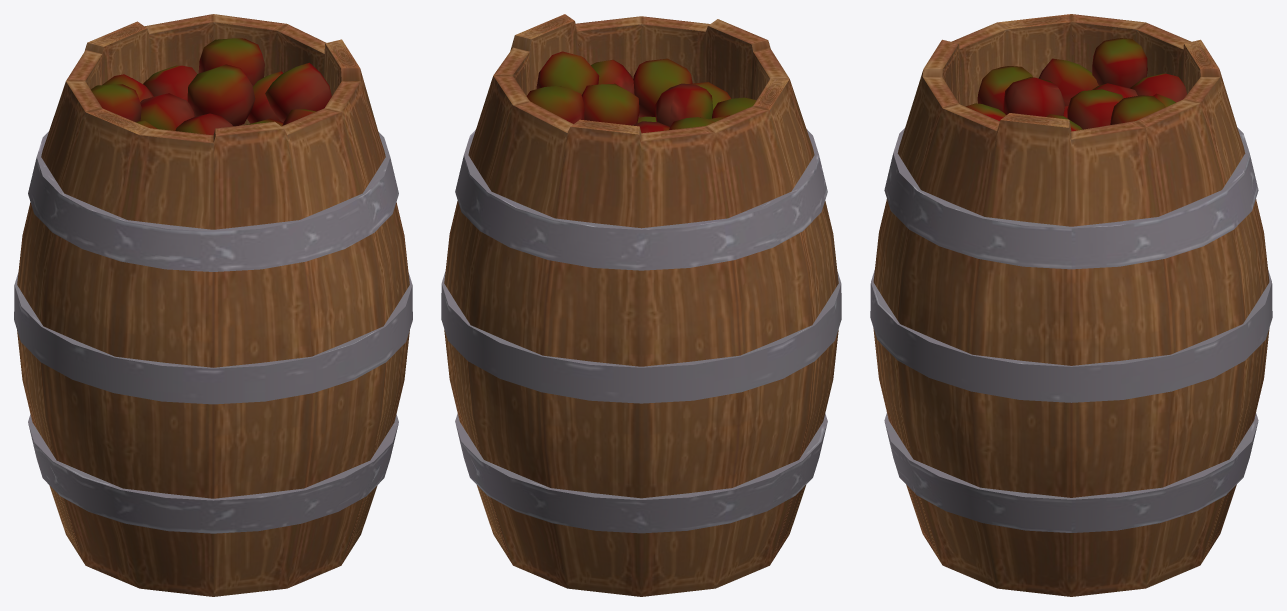
File: Barrel_Apples.gltf
3 views of the same model, side by side, from view 1: azimuth 30°, elevation 25°; view 2: azimuth 150°, elevation 25°; view 3: azimuth 270°, elevation 25° (orthographic).
Parts seen in each view (by area): view 1: Barrel_Apples; view 2: Barrel_Apples; view 3: Barrel_Apples.
Boxes of the visible parts, x1,y1,x2,y2 form: Barrel_Apples: [14, 14, 412, 596]; Barrel_Apples: [441, 14, 841, 596]; Barrel_Apples: [870, 14, 1272, 596].
Size of the model in its own units: 0.698 by 0.898 by 0.698.
Materials: 3 (3 with a texture image).
